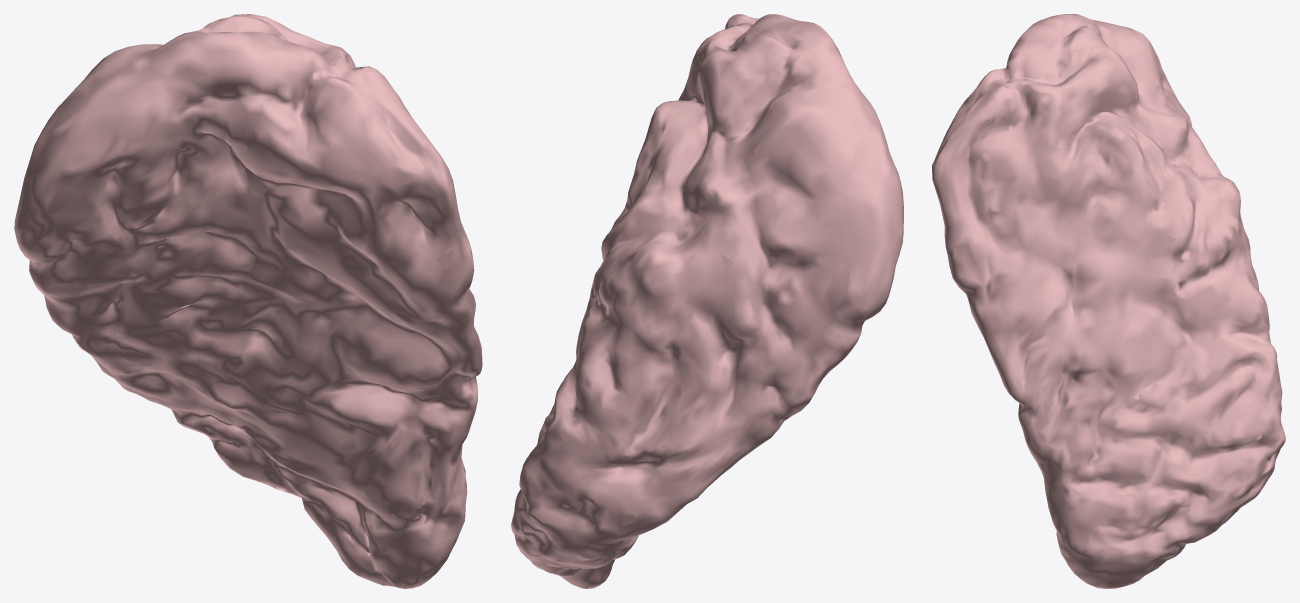
Rendered from 3d-vh-f-palatine-tonsil-l-80.glb.
3 views of the same model, side by side, from view 1: azimuth 30°, elevation 25°; view 2: azimuth 150°, elevation 25°; view 3: azimuth 270°, elevation 25° (orthographic). The views are drawn at different scales.
Parts seen in each view (by area): view 1: VH_F_palatine_tonsil_L; view 2: VH_F_palatine_tonsil_L; view 3: VH_F_palatine_tonsil_L.
Part boxes in pixels (box(x1,y1,x2,y2)): VH_F_palatine_tonsil_L: box(14, 14, 482, 588); VH_F_palatine_tonsil_L: box(511, 14, 903, 588); VH_F_palatine_tonsil_L: box(932, 14, 1285, 588).
Bounding box in the file's own units: 0.0163 × 0.0243 × 0.0159.
